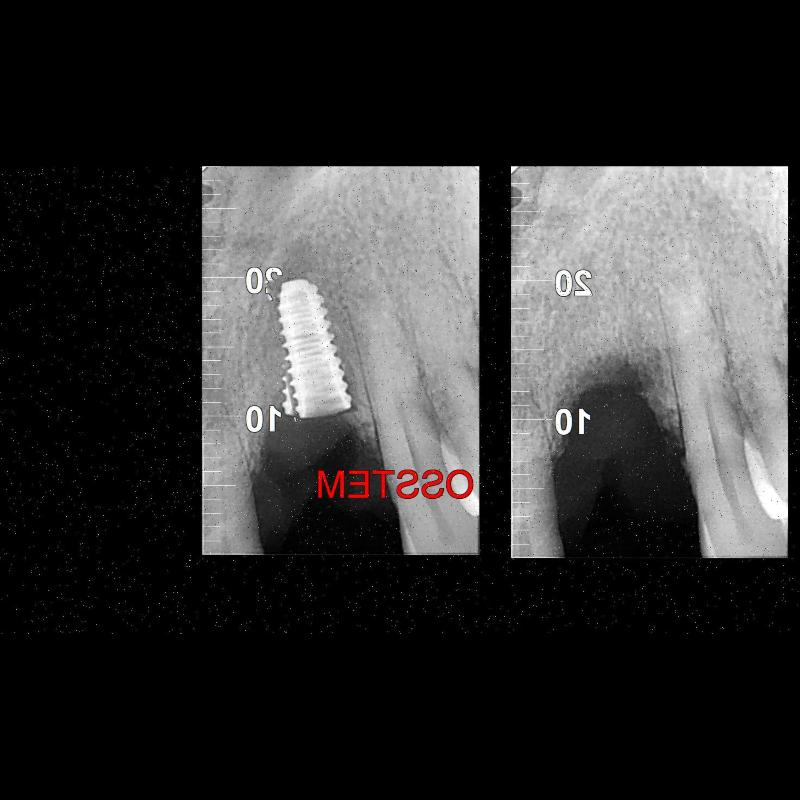osstem: (273, 270, 351, 422)
